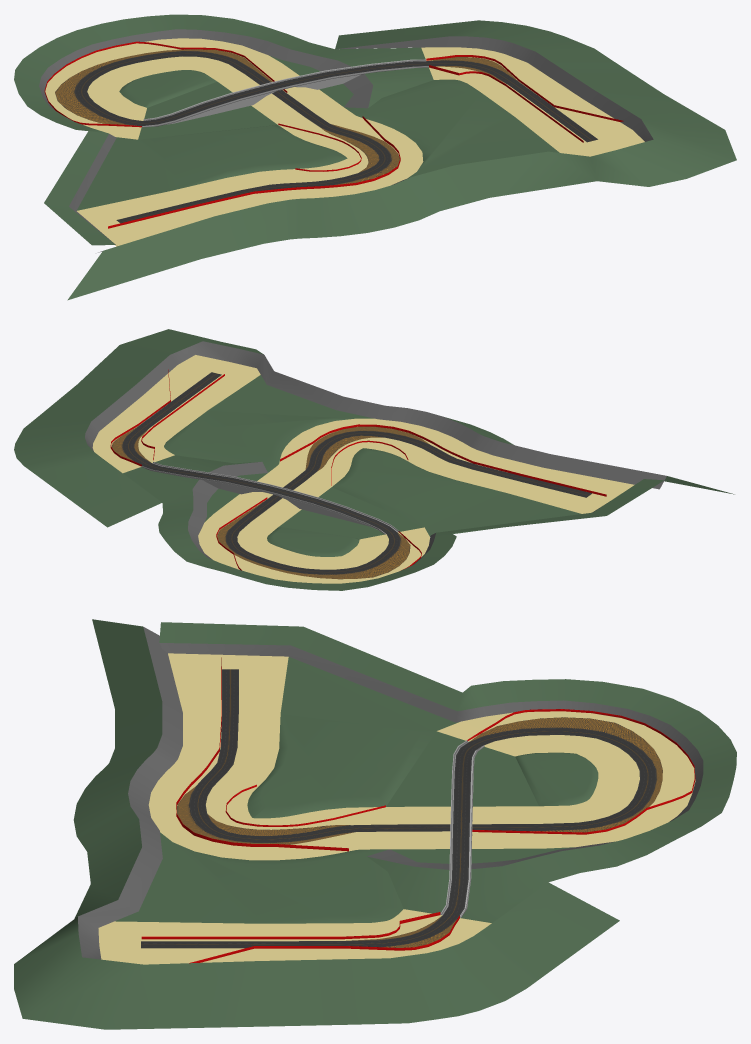
Rendered from race2.fbx.
3 renders of one model, top to bottom at view 1: azimuth 30°, elevation 25°; view 2: azimuth 150°, elevation 25°; view 3: azimuth 270°, elevation 25°, orthographic. The views are drawn at different scales.
Visible parts, largest first — view 1: trassa2; view 2: trassa2; view 3: trassa2.
Boxes of the visible parts, bbox=[...] form: trassa2: bbox=[14, 14, 736, 300]; trassa2: bbox=[14, 329, 734, 590]; trassa2: bbox=[14, 619, 736, 1029].
Bounding box in the file's own units: 90858 × 3654 × 66635.
Materials: 10 (2 with a texture image).
